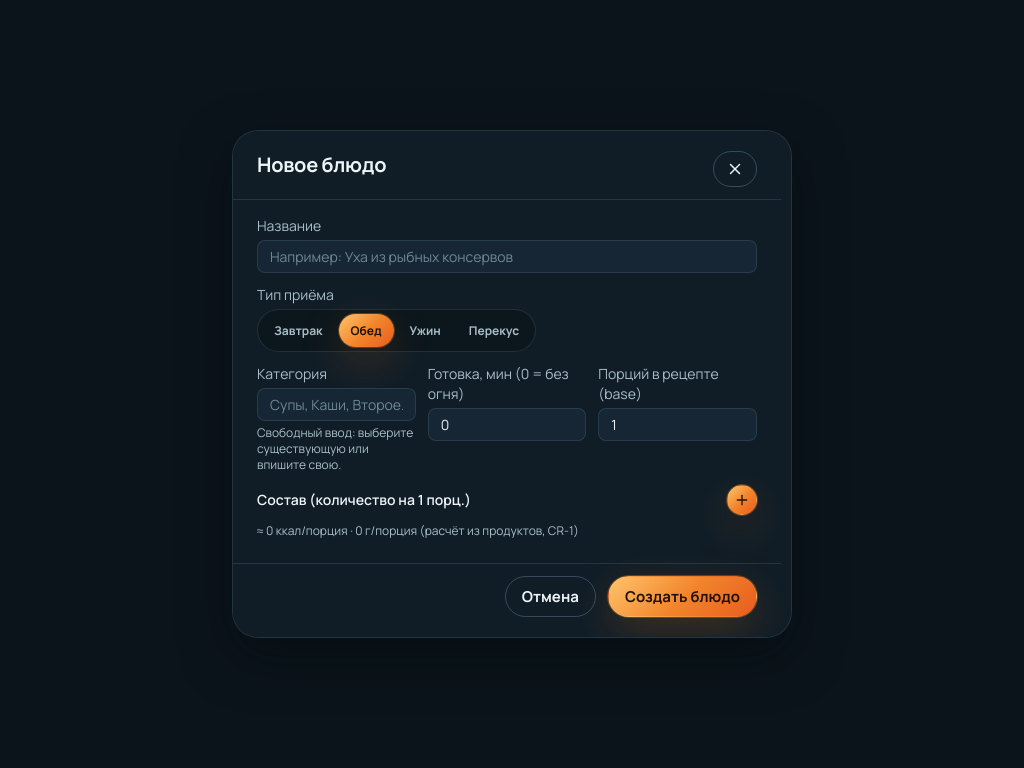
Test: RecipeEditorModal — категория (U15: свободный ввод + подсказки) › фокус открывает стилизованный список существующих категорий
Focus the field labelled "Категория" at (336, 404), box [257,388,416,421]
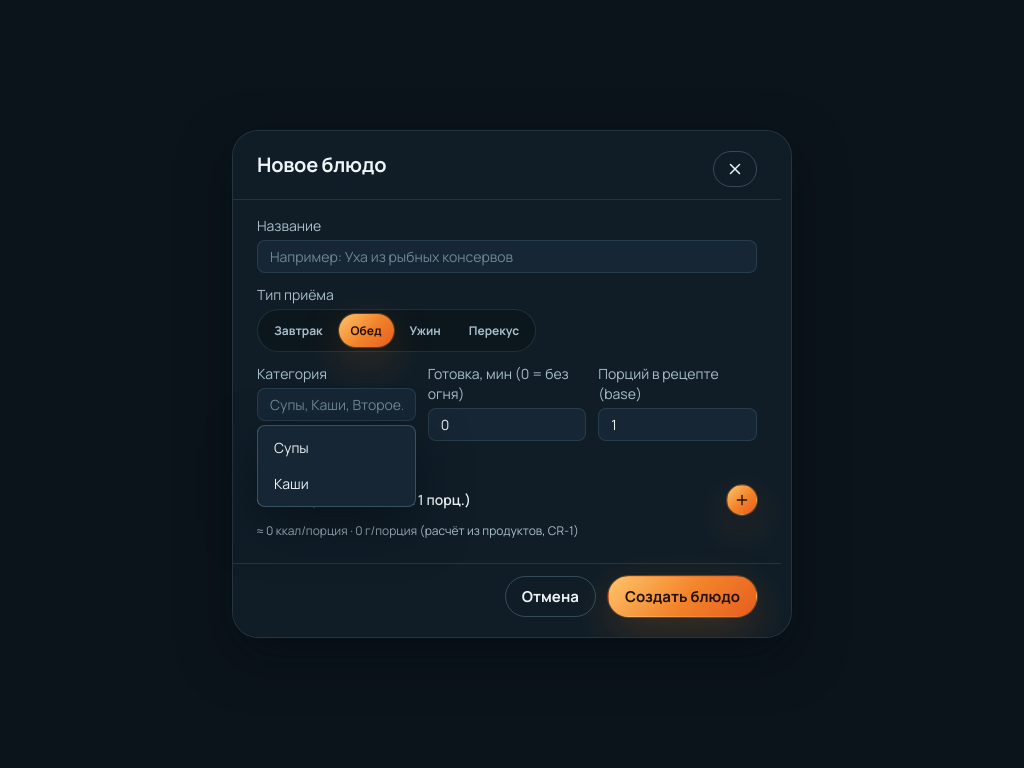
Check: the list named "Существующие категории" is shown, box [257,425,416,507]
Check: the button "Каши" is shown, box [262,466,411,502]
